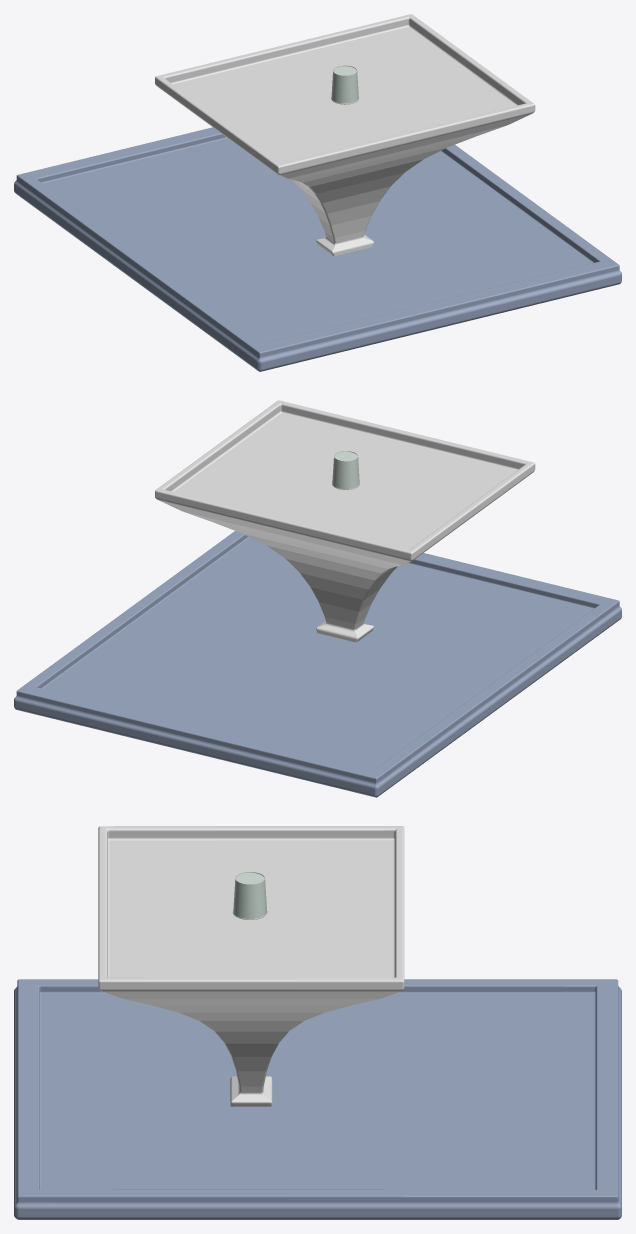
Rendered from CoinTask.fbx.
3 views of the same model, one above another, from view 1: azimuth 30°, elevation 25°; view 2: azimuth 150°, elevation 25°; view 3: azimuth 270°, elevation 25° (orthographic). The views are drawn at different scales.
Parts seen in each view (by area): view 1: Plane.027, Plane.028, Object_1; view 2: Plane.027, Plane.028, Object_1; view 3: Plane.027, Plane.028, Object_1.
Boxes of the visible parts, x1,y1,x2,y2 form: Plane.027: (14,127,621,371); Plane.028: (155,14,535,256); Object_1: (331,65,359,104); Plane.027: (14,531,621,797); Plane.028: (155,400,535,642); Object_1: (332,451,359,489); Plane.027: (14,979,621,1219); Plane.028: (98,826,404,1106); Object_1: (232,872,267,919).
Size of the model in its own units: 242 by 120 by 283.
